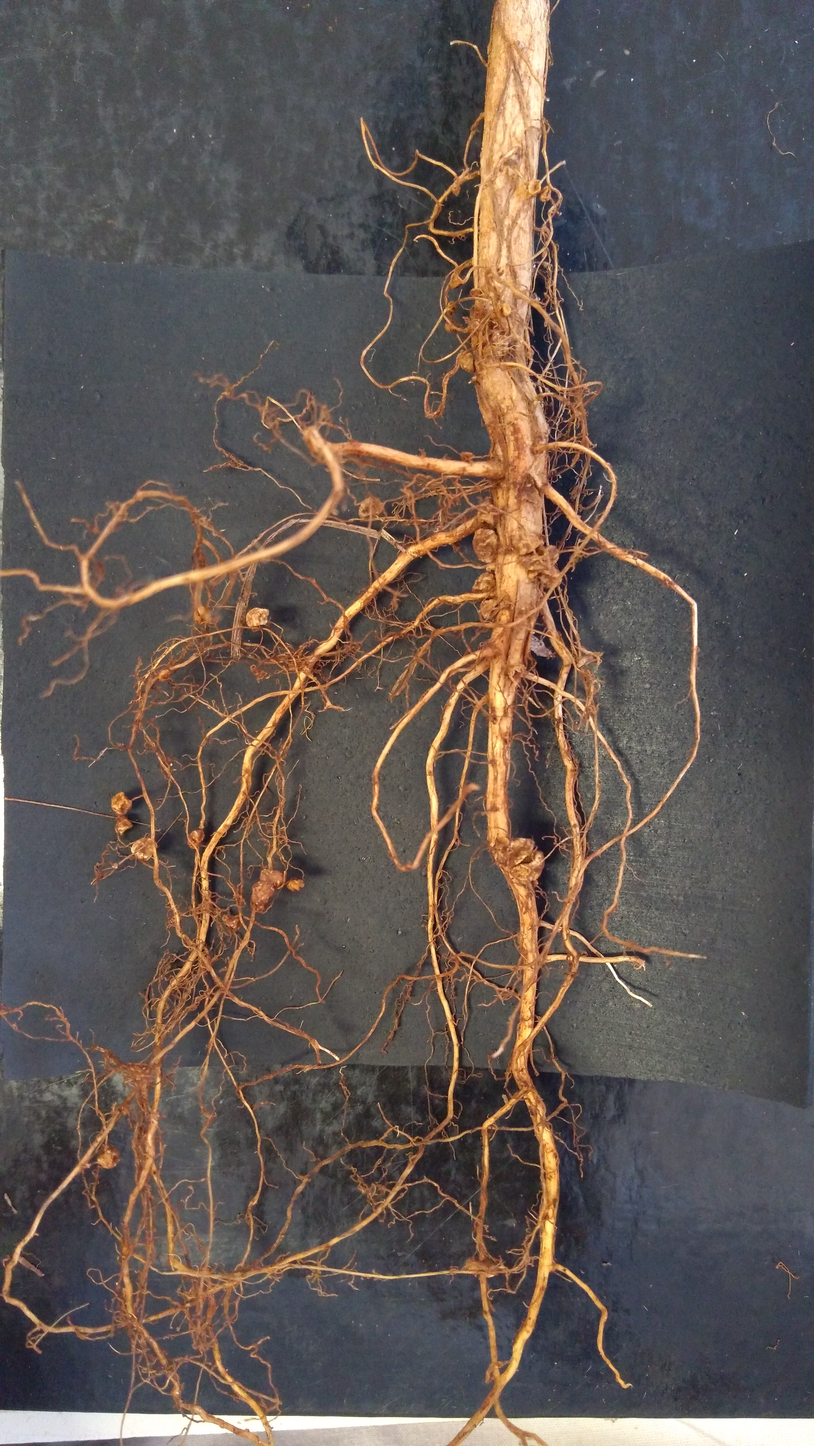nodule: (469, 524, 501, 568), (508, 849, 547, 885), (502, 833, 537, 871), (520, 543, 562, 574), (460, 1255, 501, 1282), (127, 834, 161, 864), (509, 530, 546, 556), (532, 562, 567, 589), (105, 788, 135, 818), (358, 493, 385, 523), (96, 1143, 123, 1170), (250, 879, 276, 907), (469, 571, 498, 595), (243, 605, 271, 629), (456, 349, 478, 379), (506, 312, 527, 342), (184, 825, 208, 851), (260, 867, 286, 889), (473, 291, 497, 311), (221, 912, 246, 931), (491, 333, 510, 358), (111, 816, 137, 834), (479, 599, 498, 619), (285, 876, 306, 894), (194, 606, 212, 624), (538, 184, 553, 205), (478, 514, 497, 529), (527, 177, 541, 197), (448, 271, 463, 289), (495, 609, 512, 624), (460, 450, 475, 463), (502, 301, 514, 317), (158, 668, 171, 680)
